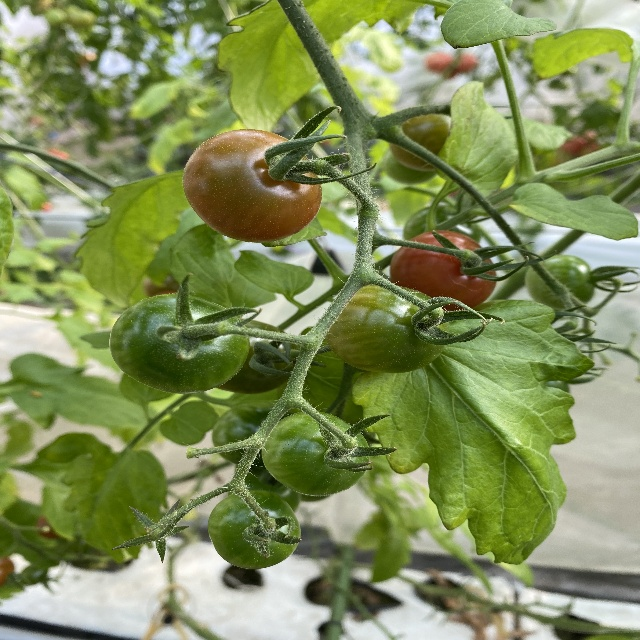l_fully_ripened: (390, 231, 496, 313)
l_green: (109, 294, 251, 395), (326, 283, 451, 373), (262, 408, 369, 496), (208, 488, 301, 569), (215, 319, 300, 394), (213, 401, 297, 471), (526, 255, 594, 313), (244, 470, 300, 514)
l_half_ripened: (183, 128, 323, 243), (388, 111, 451, 170)
